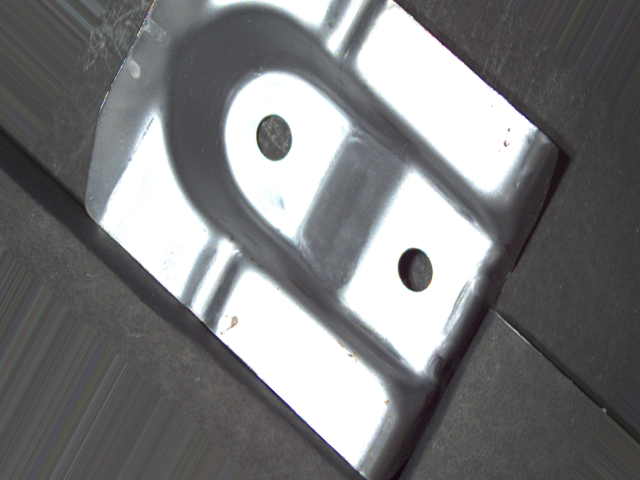defect: (255, 112, 296, 162)
